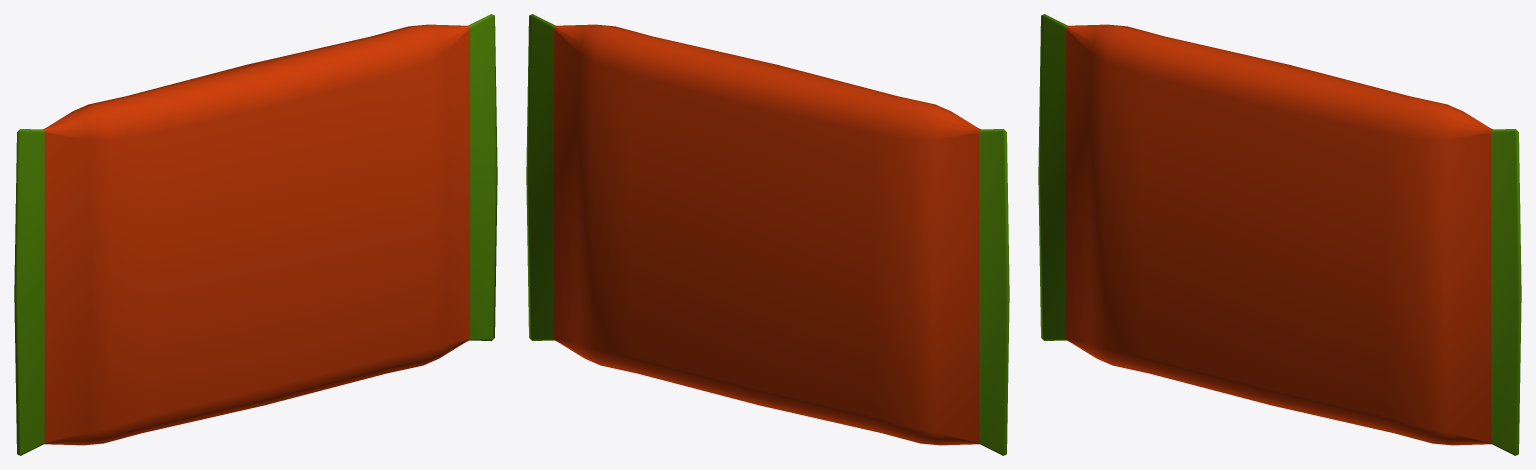
The model's file is Jelly.fbx.
3 views of the same model, side by side, from view 1: azimuth 30°, elevation 25°; view 2: azimuth 150°, elevation 25°; view 3: azimuth 330°, elevation 25° (orthographic).
Parts seen in each view (by area): view 1: Jelly_bingsu; view 2: Jelly_bingsu; view 3: Jelly_bingsu.
Boxes of the visible parts, x1=… form: Jelly_bingsu: x1=14, y1=14, x2=497, y2=455; Jelly_bingsu: x1=526, y1=14, x2=1009, y2=455; Jelly_bingsu: x1=1038, y1=14, x2=1521, y2=455.
Size of the model in its own units: 41.01 by 5.06 by 27.37.
